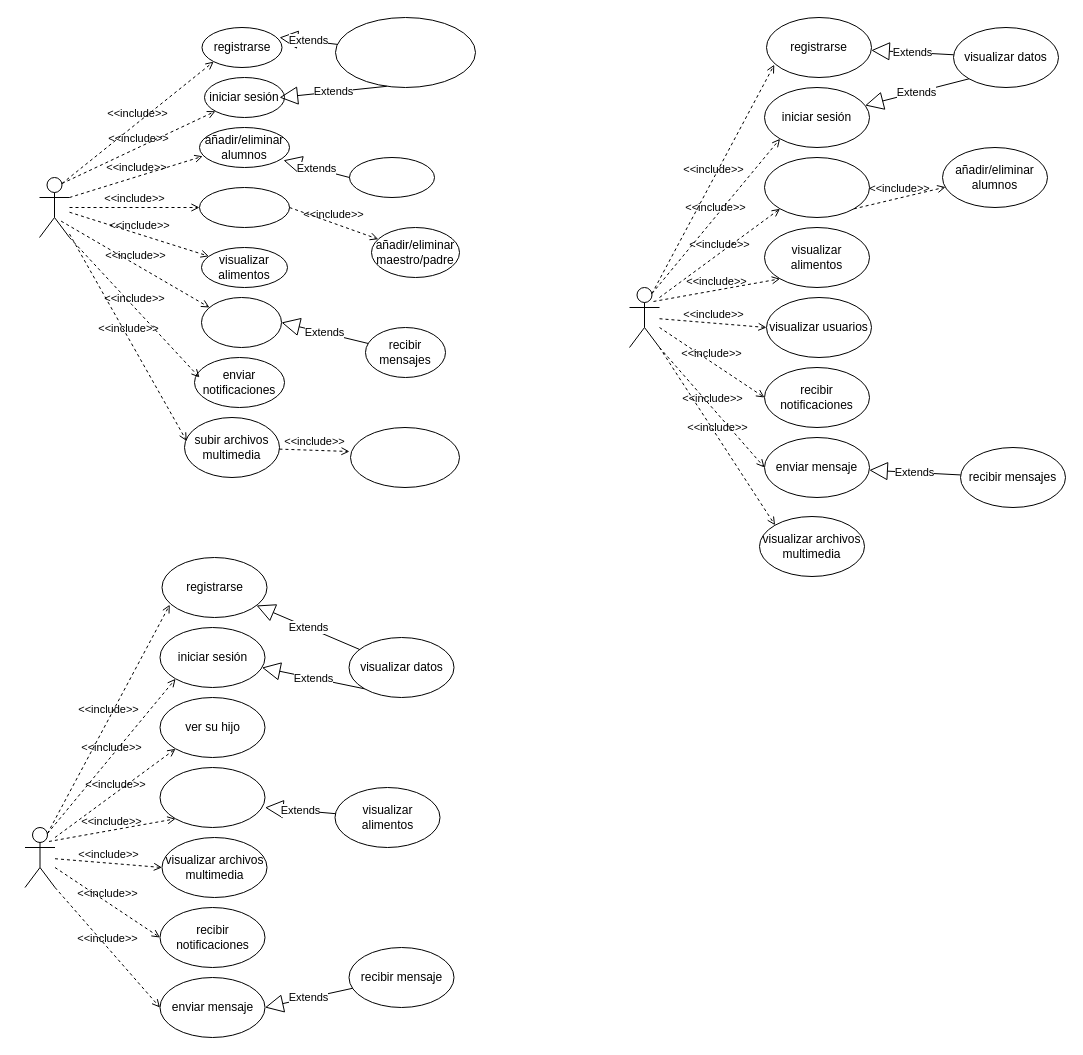
Some shapes in this 1083 by 1055 pixel diagram are drawn without their labels. The centre of each missing label's shape, as x and y in pixels:
"Administrador" belongs at (54,207).
"añadir alimentos" belongs at (212,797).
"comprobar datos" belongs at (405,52).
"enviar mensajes" belongs at (241,322).
"Maestro" belongs at (644,317).
"Padre" belongs at (39,857).
"visualizar alumnos" belongs at (391,177).
"visualizar maestro/padre" belongs at (244,207).
"visualizar sus alumnos" belongs at (817,187).
"visualizar/eliminar archivos" belongs at (405,457).
